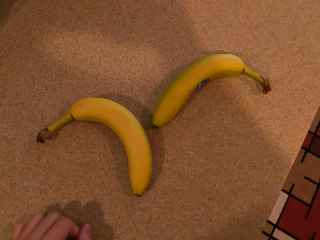banana: (36, 95, 156, 198), (150, 52, 274, 132)
